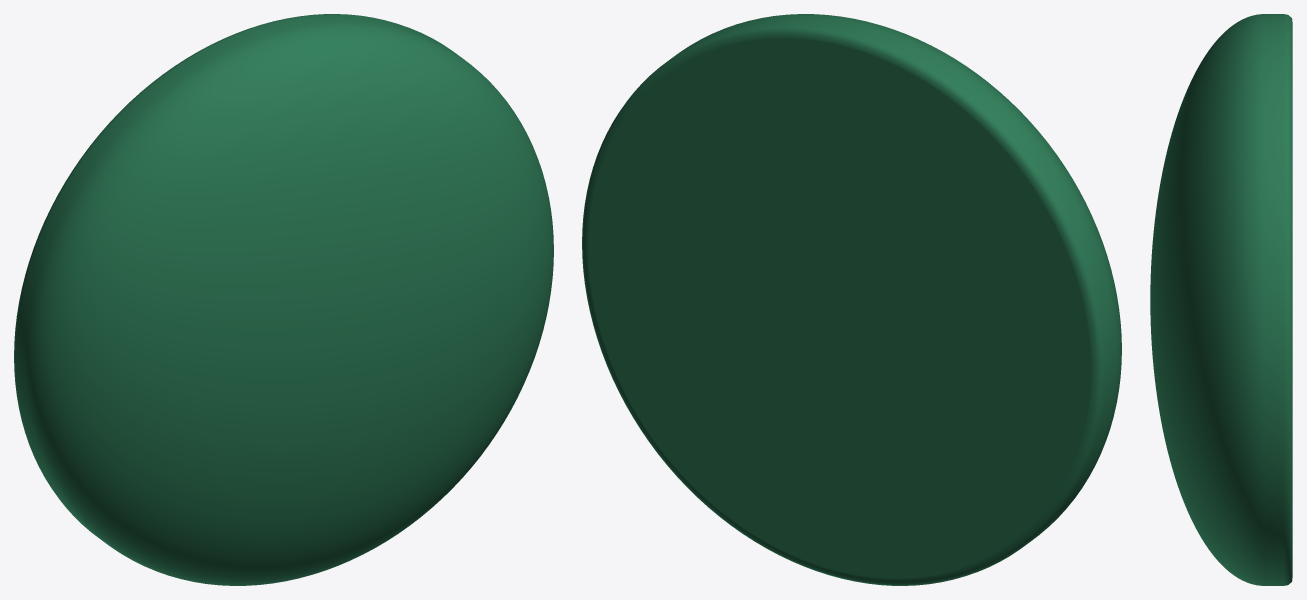
File: round.glb
The picture shows the model from 3 angles, left to right: view 1: azimuth 30°, elevation 25°; view 2: azimuth 150°, elevation 25°; view 3: azimuth 270°, elevation 25°; orthographic projection. The views are drawn at different scales.
Parts seen in each view (by area): view 1: Round Cabochon 16x16x4mm; view 2: Round Cabochon 16x16x4mm; view 3: Round Cabochon 16x16x4mm.
Boxes of the visible parts, box(x1,y1,x2,y2) form: Round Cabochon 16x16x4mm: box(14, 14, 553, 585); Round Cabochon 16x16x4mm: box(582, 14, 1121, 585); Round Cabochon 16x16x4mm: box(1150, 14, 1292, 585).
Size of the model in its own units: 0.016 by 0.016 by 0.00398.
